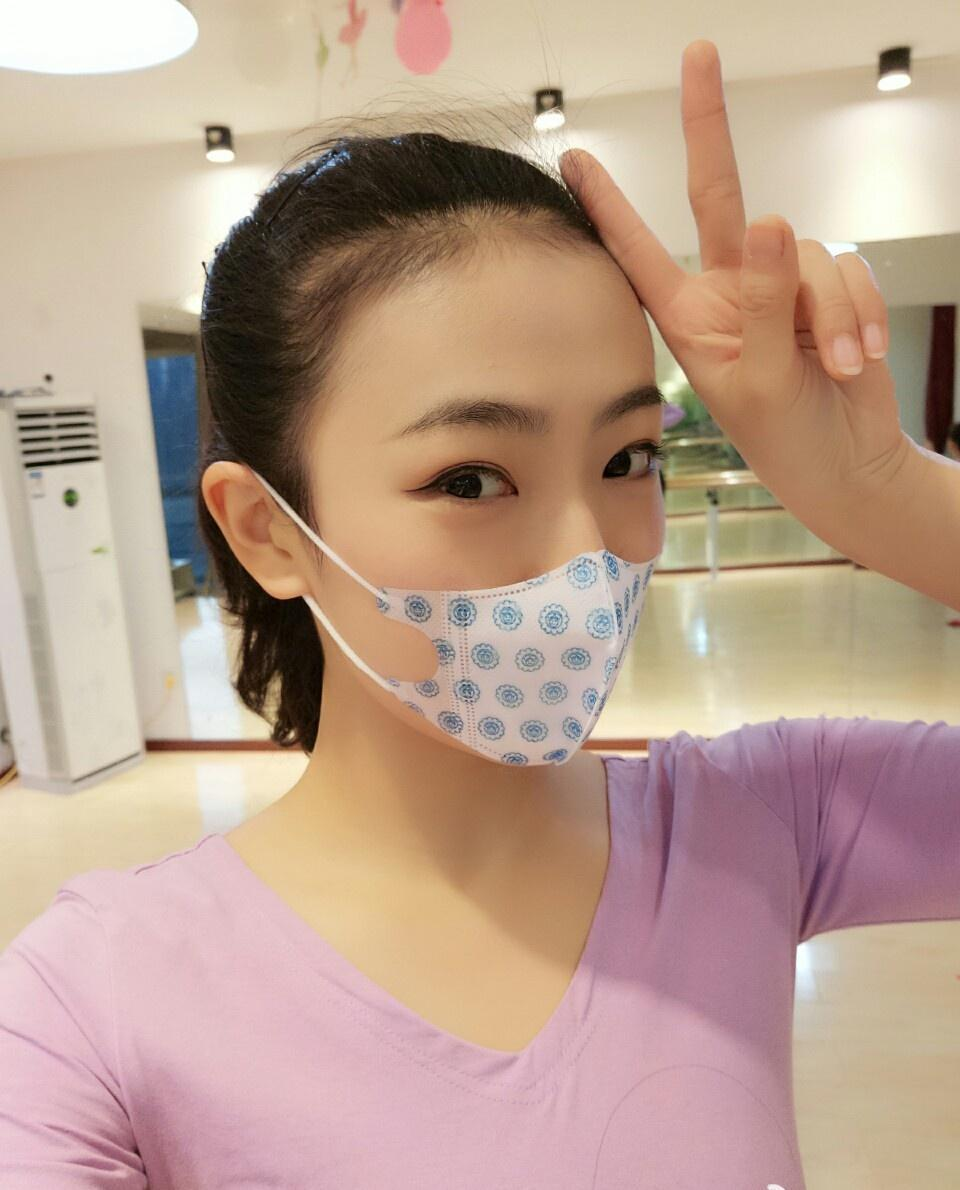WRONG: (289, 354, 701, 766)
